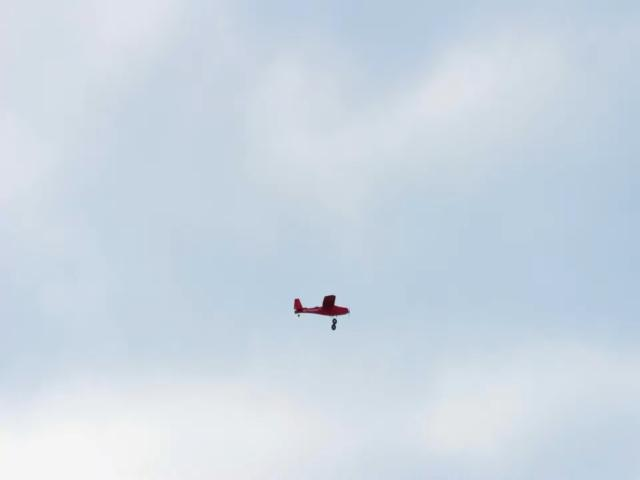plane: (294, 295, 350, 330)
